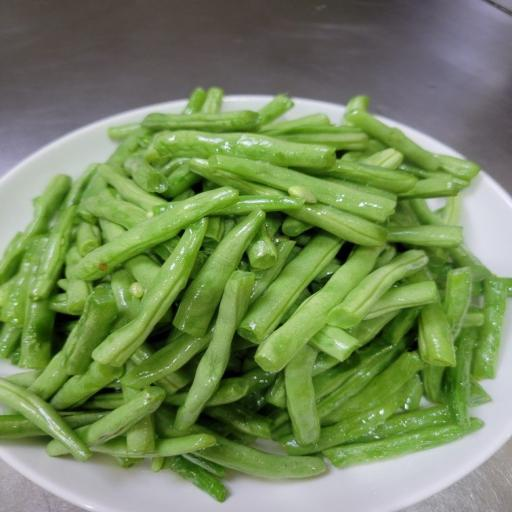buncis_rebus: (1, 61, 498, 505)
